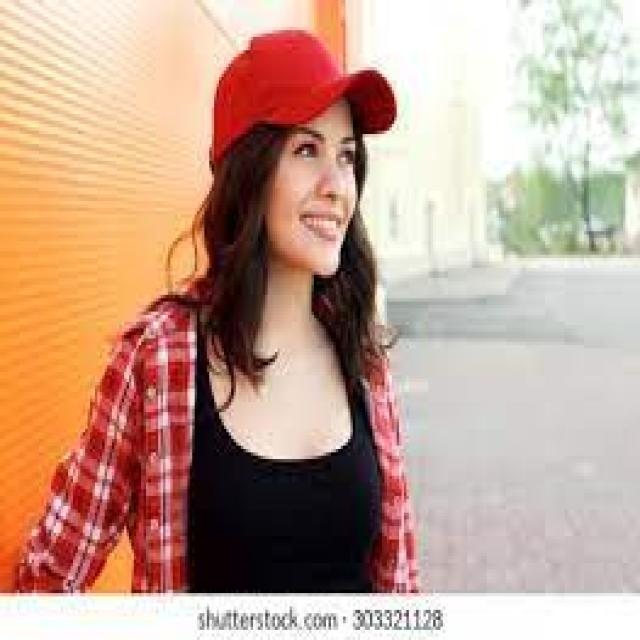cap: (207, 0, 401, 221)
